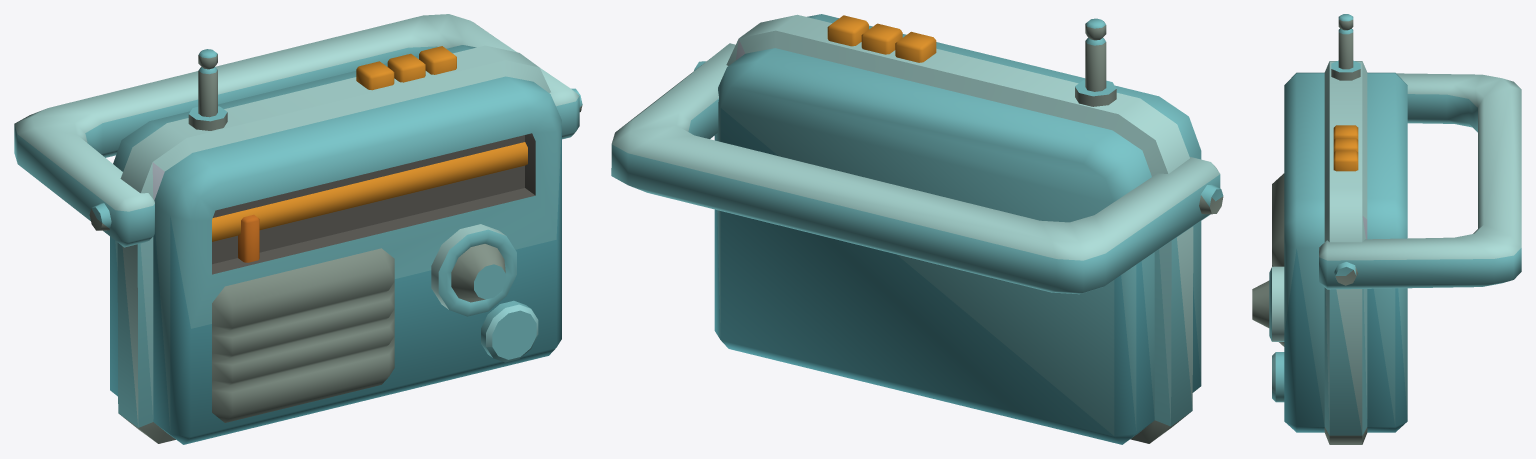
File: itch_tiny_pleasant_picnic_radio.glb
3 views of the same model, side by side, from view 1: azimuth 30°, elevation 25°; view 2: azimuth 150°, elevation 25°; view 3: azimuth 270°, elevation 25° (orthographic). The views are drawn at different scales.
Visible parts, largest first — view 1: radio, radio_handle; view 2: radio, radio_handle; view 3: radio, radio_handle.
Part boxes in pixels (<box>): radio: <box>110,45,561,444</box>; radio_handle: <box>14,14,582,247</box>; radio: <box>714,14,1201,444</box>; radio_handle: <box>611,43,1223,294</box>; radio: <box>1252,14,1407,444</box>; radio_handle: <box>1319,73,1521,289</box>.
Bounding box in the file's own units: 0.96 × 0.7072 × 0.5701.
